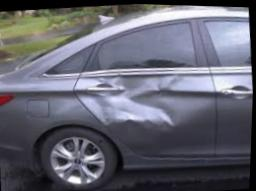Door: (74, 70, 200, 139)
